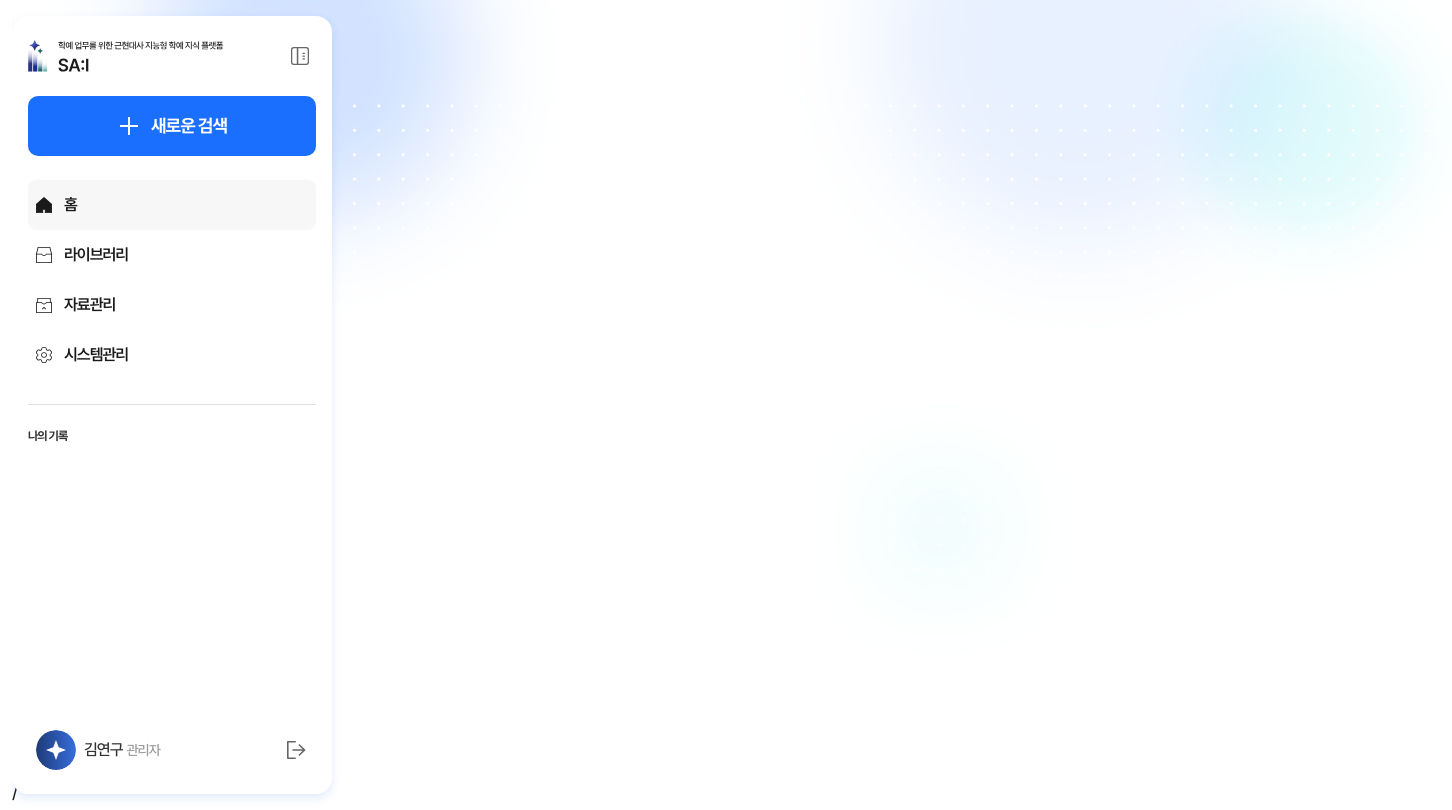
Test: 시스템관리 클릭(관리자 role): system-accounts 권한으로 /system/accounts 로 정상 이동한다
The width and height of the screenshot is (1452, 810).
Click the link "시스템관리" at x=82, y=354, box [36,345,128,364]
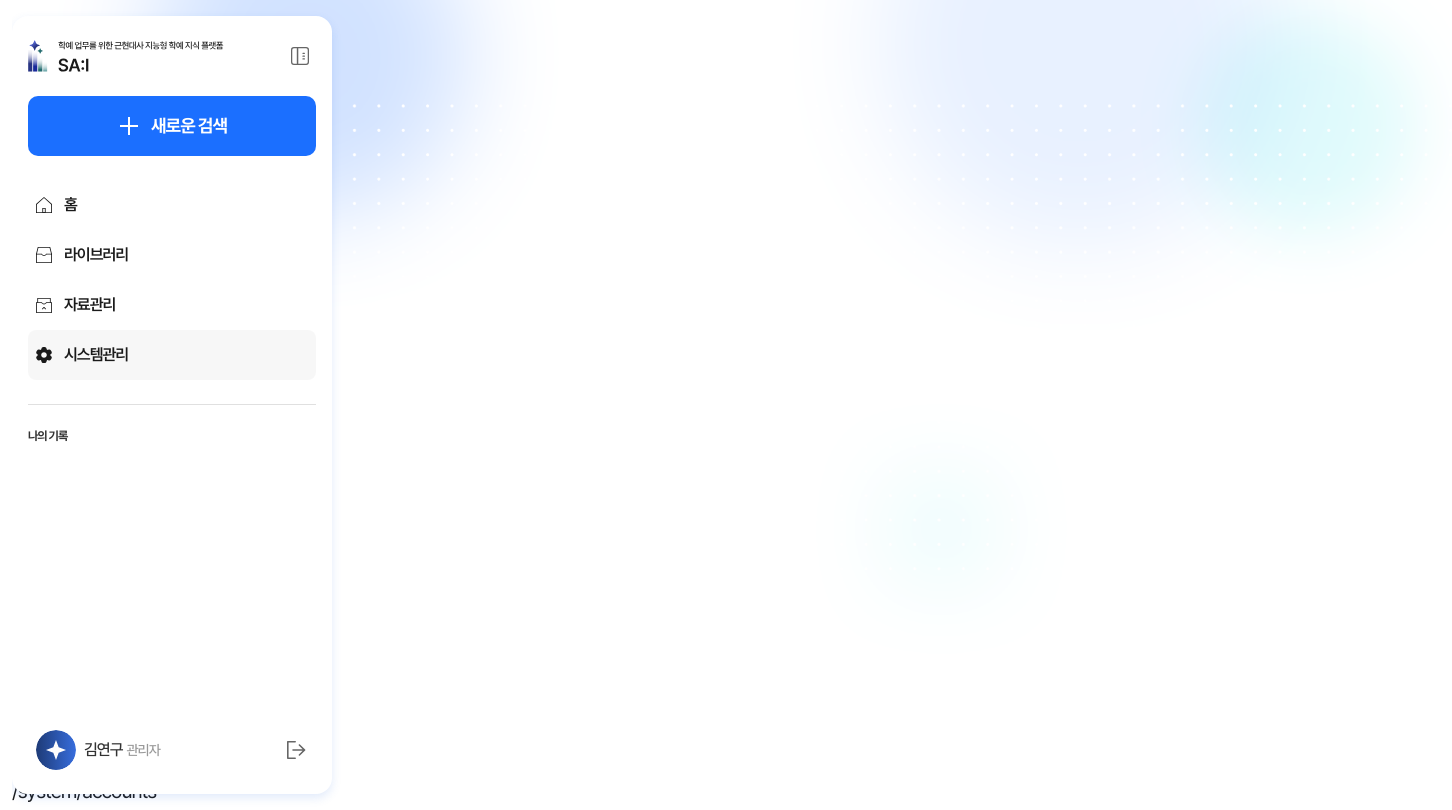
Now the text with test id "probe-path" reads "/system/accounts", box [12,779,156,803]
